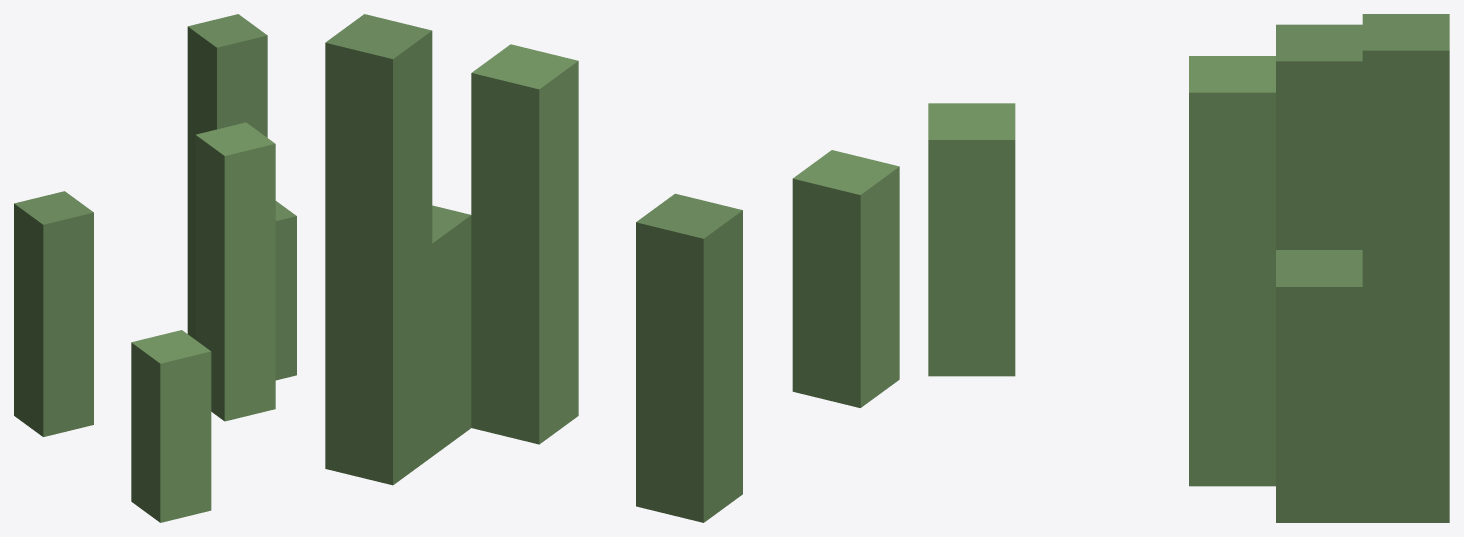
The model's file is ortiga_02.glb.
3 views of the same model, side by side, from view 1: azimuth 30°, elevation 25°; view 2: azimuth 150°, elevation 25°; view 3: azimuth 270°, elevation 25° (orthographic). The views are drawn at different scales.
Parts seen in each view (by area): view 1: ortiga_02; view 2: ortiga_02; view 3: ortiga_02.
Part boxes in pixels (x1,y1,x2,y2): ortiga_02: (14, 14, 296, 522); ortiga_02: (325, 14, 899, 522); ortiga_02: (928, 14, 1449, 522).
Size of the model in its own units: 0.5 by 0.6 by 0.6.
